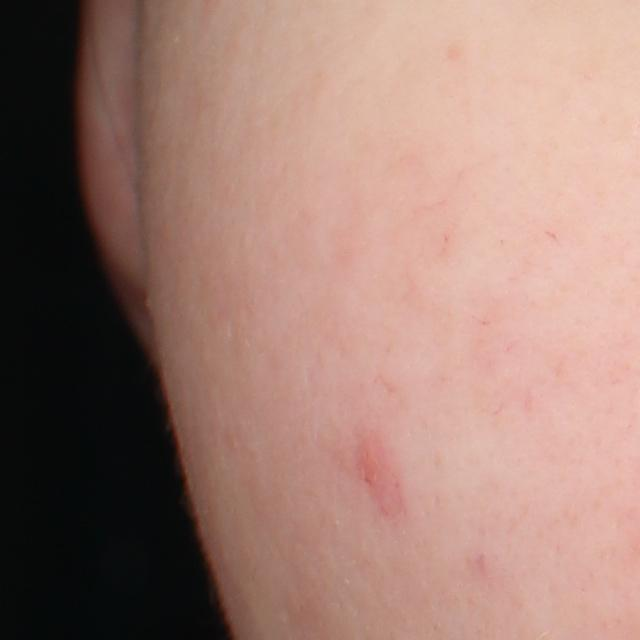papule: (354, 435, 391, 491)
